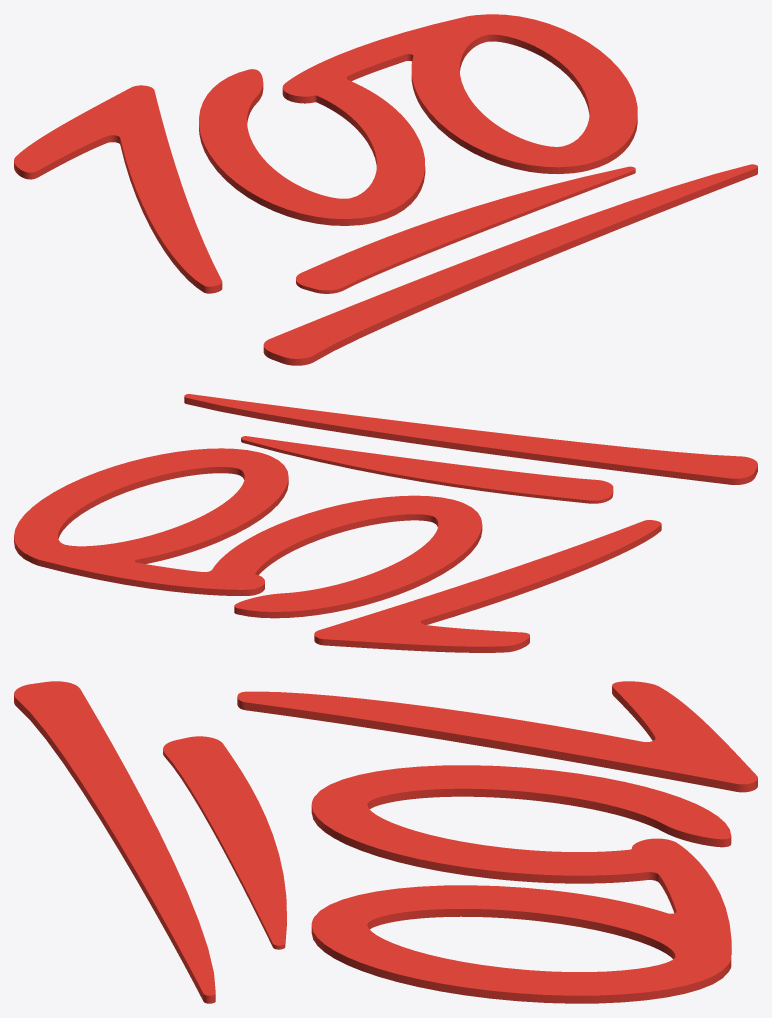
The model's file is emoji_u1f4af.glb.
3 renders of one model, top to bottom at view 1: azimuth 30°, elevation 25°; view 2: azimuth 150°, elevation 25°; view 3: azimuth 270°, elevation 25°, orthographic. The views are drawn at different scales.
Visible parts, largest first — view 1: emoji_u1f4af; view 2: emoji_u1f4af; view 3: emoji_u1f4af.
Part boxes in pixels (x1,y1,x2,y2): emoji_u1f4af: (14, 14, 757, 365); emoji_u1f4af: (14, 394, 757, 652); emoji_u1f4af: (14, 681, 757, 1003).
Bounding box in the file's own units: 0.0338 × 0.0004 × 0.0338.
